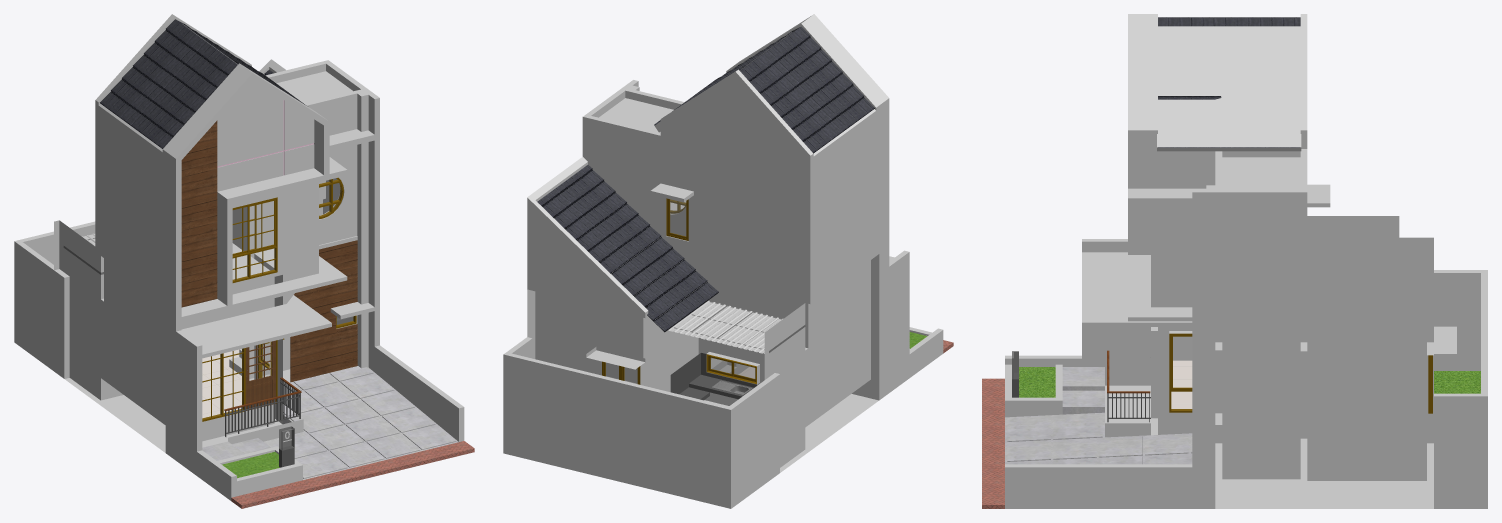
Rendered from himawari-51.glb.
3 renders of one model, left to right at view 1: azimuth 30°, elevation 25°; view 2: azimuth 150°, elevation 25°; view 3: azimuth 270°, elevation 25°, orthographic. The views are drawn at different scales.
Visible parts, largest first — view 1: ID79, ID104, ID152, ID6, ID173, ID411, ID432, ID88, ID291, ID356; view 2: ID79, ID6, ID88, ID189, ID173; view 3: ID79, ID104, ID411, ID356, ID6, ID432, ID173, ID88.
Boxes of the visible parts, left/top/right/bottom form: ID79: left=14, top=14, right=464, bottom=500; ID104: left=202, top=366, right=458, bottom=479; ID152: left=181, top=120, right=357, bottom=382; ID6: left=100, top=19, right=306, bottom=148; ID173: left=202, top=177, right=356, bottom=421; ID411: left=231, top=441, right=474, bottom=508; ID432: left=202, top=349, right=241, bottom=418; ID88: left=225, top=379, right=300, bottom=436; ID291: left=245, top=340, right=275, bottom=410; ID356: left=222, top=452, right=279, bottom=478; ID79: left=503, top=14, right=943, bottom=508; ID6: left=537, top=26, right=874, bottom=332; ID88: left=670, top=353, right=756, bottom=400; ID189: left=605, top=199, right=755, bottom=383; ID173: left=602, top=198, right=756, bottom=384; ID79: left=1005, top=14, right=1487, bottom=508; ID104: left=1005, top=367, right=1192, bottom=464; ID411: left=982, top=378, right=1004, bottom=508; ID356: left=1019, top=367, right=1480, bottom=397; ID6: left=1158, top=17, right=1300, bottom=147; ID432: left=1171, top=360, right=1192, bottom=408; ID173: left=1169, top=333, right=1432, bottom=413; ID88: left=1107, top=393, right=1150, bottom=422.
Size of the model in its own units: 6.5 by 9.85 by 11.
19 materials, 10 textured.
